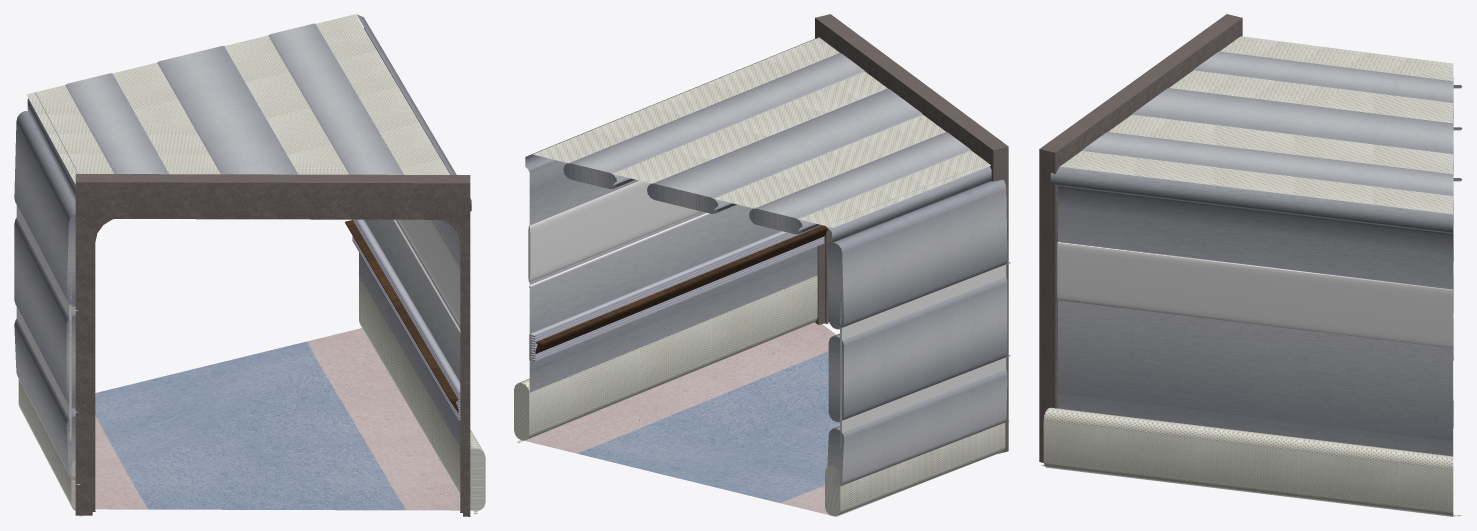
Rendered from GalaxyCorridorRightTurn.fbx.
3 views of the same model, side by side, from view 1: azimuth 30°, elevation 25°; view 2: azimuth 150°, elevation 25°; view 3: azimuth 270°, elevation 25° (orthographic). The views are drawn at different scales.
Parts seen in each view (by area): view 1: Plane40, Box226, Plane39, ChamferBox64, Plane42, ChamferBox63, ChamferBox80, ChamferBox67, ChamferBox78, ChamferBox62, ChamferBox81, ChamferBox68 (+6 smaller); view 2: Plane40, Plane42, Plane39, ChamferBox80, ChamferBox78, ChamferBox67, ChamferBox64, ChamferBox81, ChamferBox63, ChamferBox68, Box226, ChamferBox62 (+11 smaller); view 3: Plane42, ChamferBox67, Plane39, ChamferBox68, Box226, ChamferBox64, ChamferBox63, ChamferBox62, Box225.
Boxes of the visible parts, x1,y1,x2,y2 form: Plane40: (95,328,472,510); Box226: (75,174,470,516); Plane39: (26,14,449,184); ChamferBox64: (157,46,298,174); Plane42: (356,14,471,446); ChamferBox63: (268,23,403,174); ChamferBox80: (14,111,78,310); ChamferBox67: (359,275,485,514); ChamferBox78: (14,217,77,412); ChamferBox62: (65,73,168,174); ChamferBox81: (14,319,80,485); ChamferBox68: (398,219,460,325); Plane40: (523,322,924,516); Plane42: (525,39,817,392); Plane39: (532,37,990,227); ChamferBox80: (827,180,1010,329); ChamferBox78: (828,277,1010,422); ChamferBox67: (514,275,817,443); ChamferBox64: (647,88,922,213); ChamferBox81: (827,369,1009,487); ChamferBox63: (563,53,864,188); ChamferBox68: (528,181,701,282); Box226: (815,14,1008,453); ChamferBox62: (749,132,970,234); Plane42: (1050,166,1452,456); ChamferBox67: (1041,407,1461,516); Plane39: (1060,36,1453,214); ChamferBox68: (1057,241,1453,347); Box226: (1039,14,1242,462); ChamferBox64: (1132,88,1462,169); ChamferBox63: (1082,132,1462,211); ChamferBox62: (1194,51,1462,118); Box225: (1046,16,1234,408).
Size of the model in its own units: 340 by 256 by 313.
